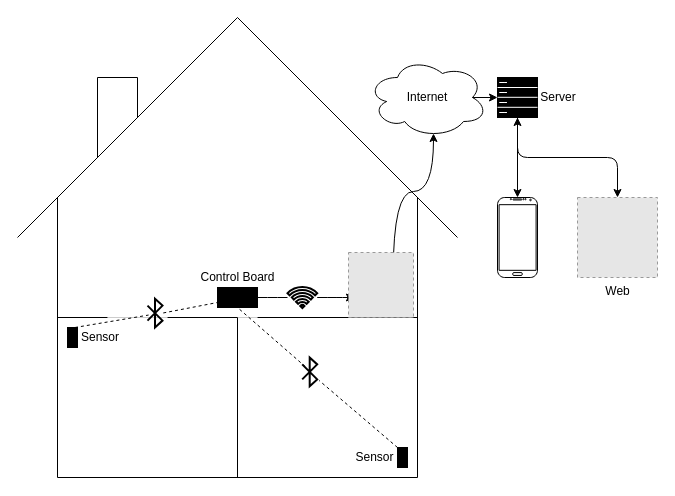
Some shapes in this 675 by 496 pixel diagram are drawn without their labels. Grey dashed boxes stand in for pictures. Here are the shapes that lost their labels. From the top down, the centre of each, then its label:
At [517,237]: "Android/iOS".
At [237,297]: "ESP32".
